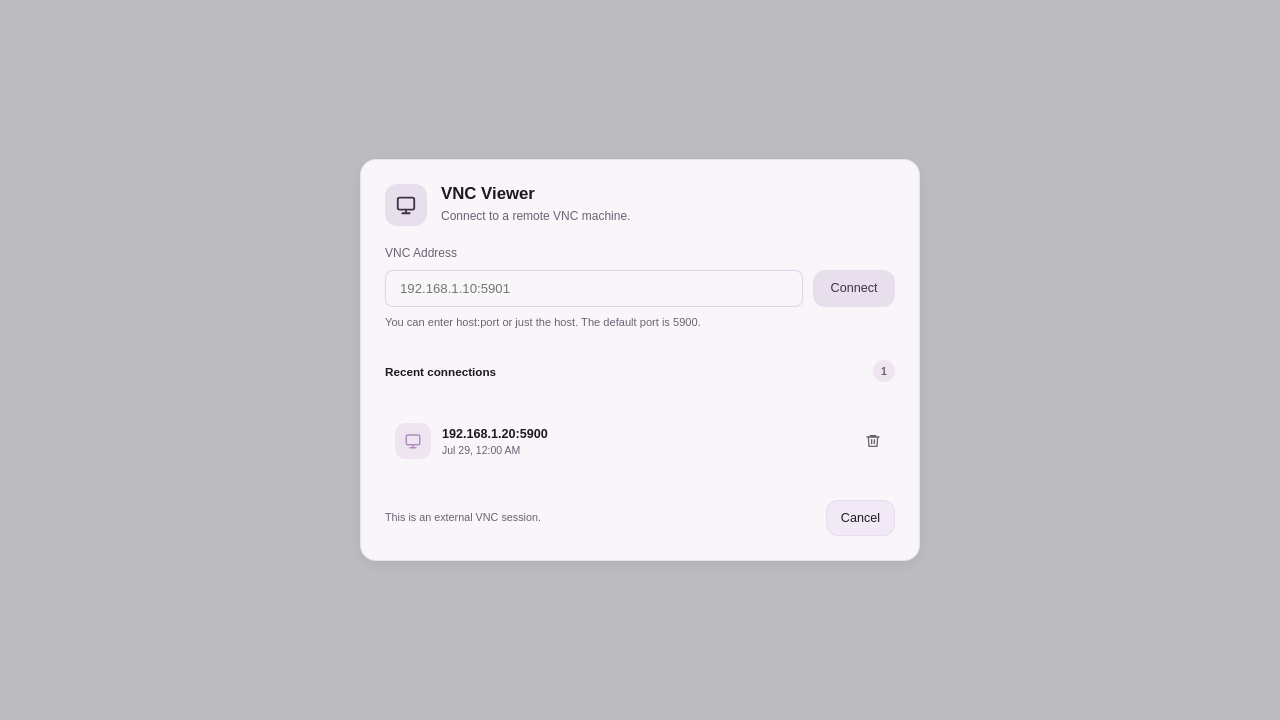
it: ConnectVncDialog › removes a device from recent connections
The image size is (1280, 720).
Expected: the text "192.168.1.20:5900" is shown, [442, 427, 548, 441]
Click the button named "Remove from history" at (873, 441), box [854, 422, 892, 460]
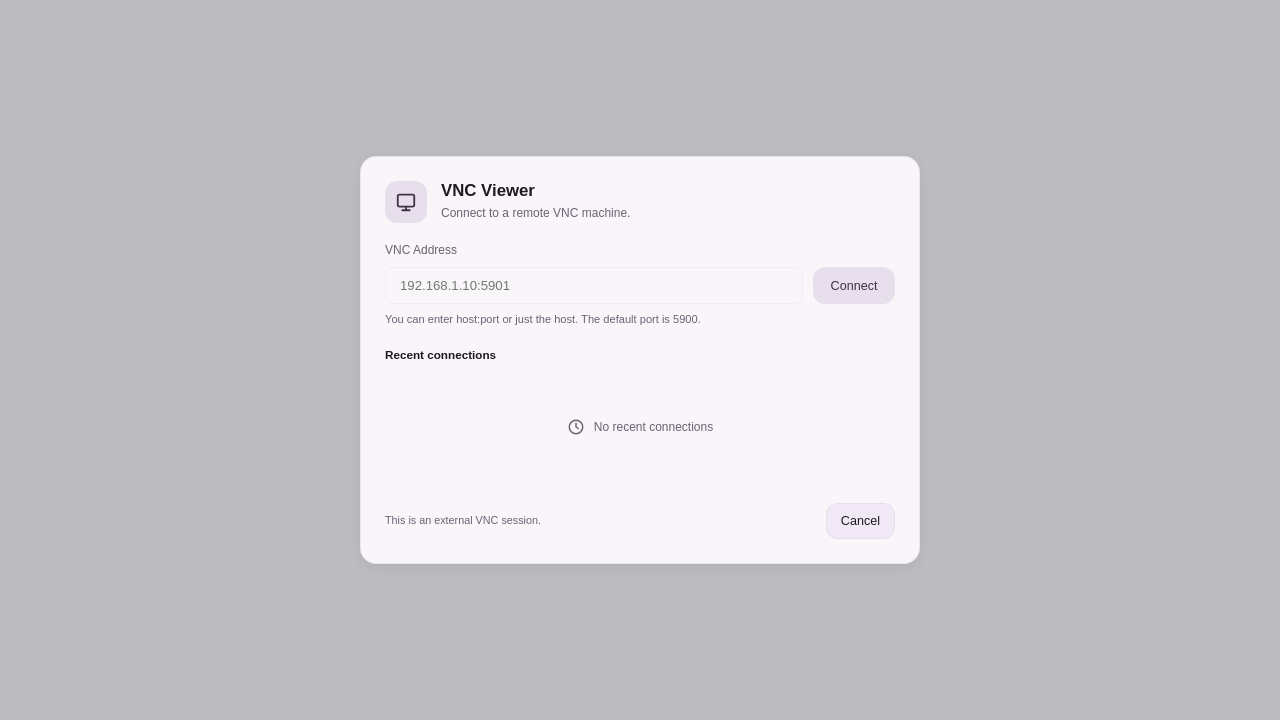
Expected: the button "192.168.1.20:5900" is gone
